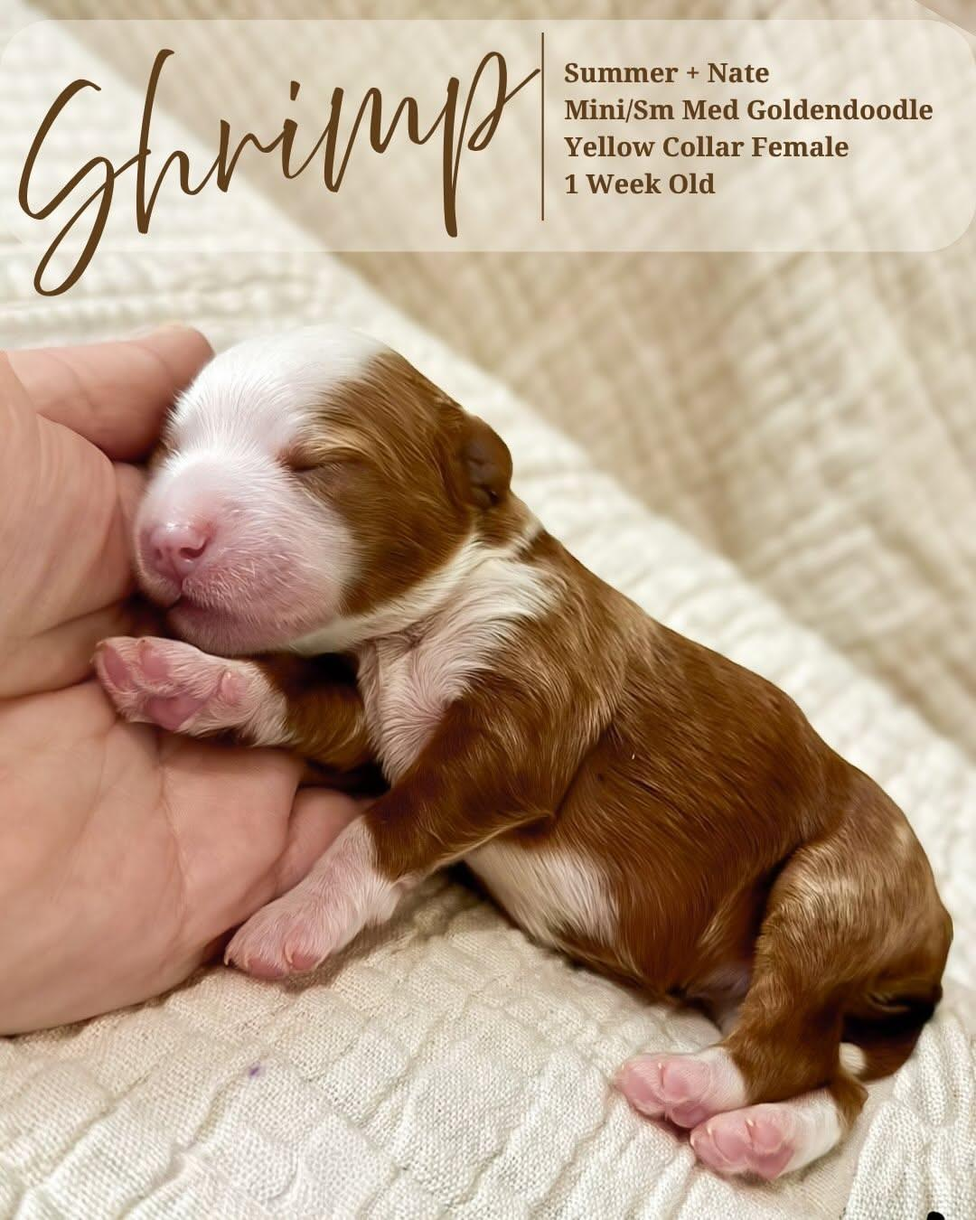non-dog: (0, 318, 371, 1039)
puppy-dog: (89, 323, 954, 1184)
